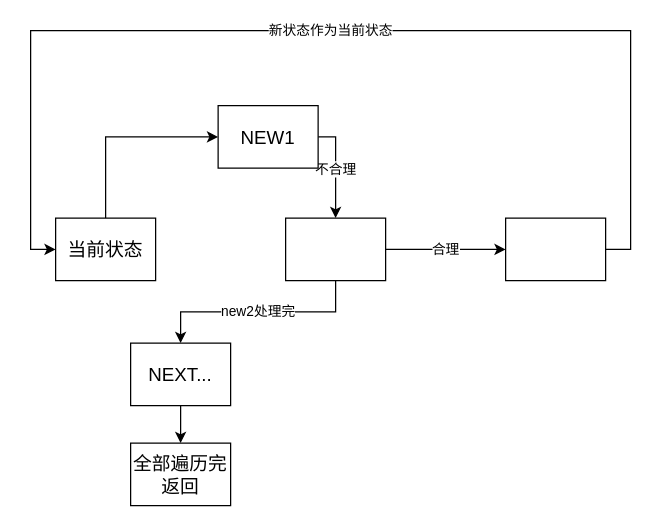
This 663x528 diagram has some shape labels left out. Here are the shapes that lost their labels. From the top down, the centre of each, then its label:
pixel 335 249: NEW2
pixel 555 249: do something
